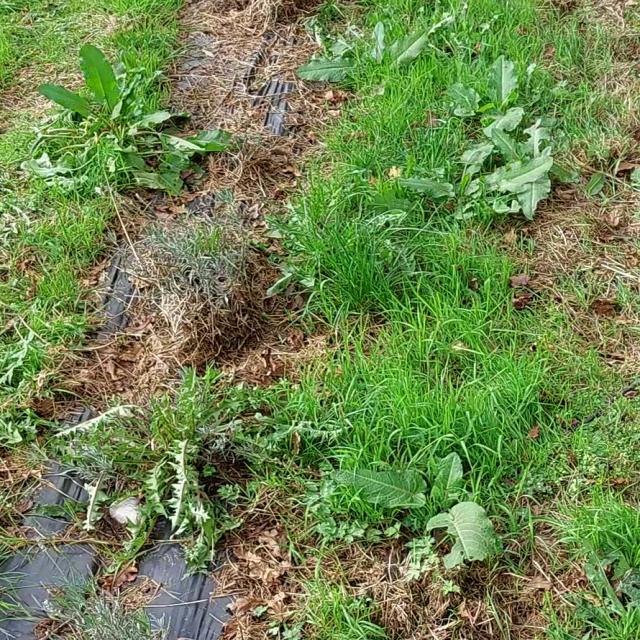organic waste: (21, 33, 216, 212), (342, 428, 504, 576), (398, 122, 570, 254), (296, 4, 472, 98), (438, 51, 572, 146)
